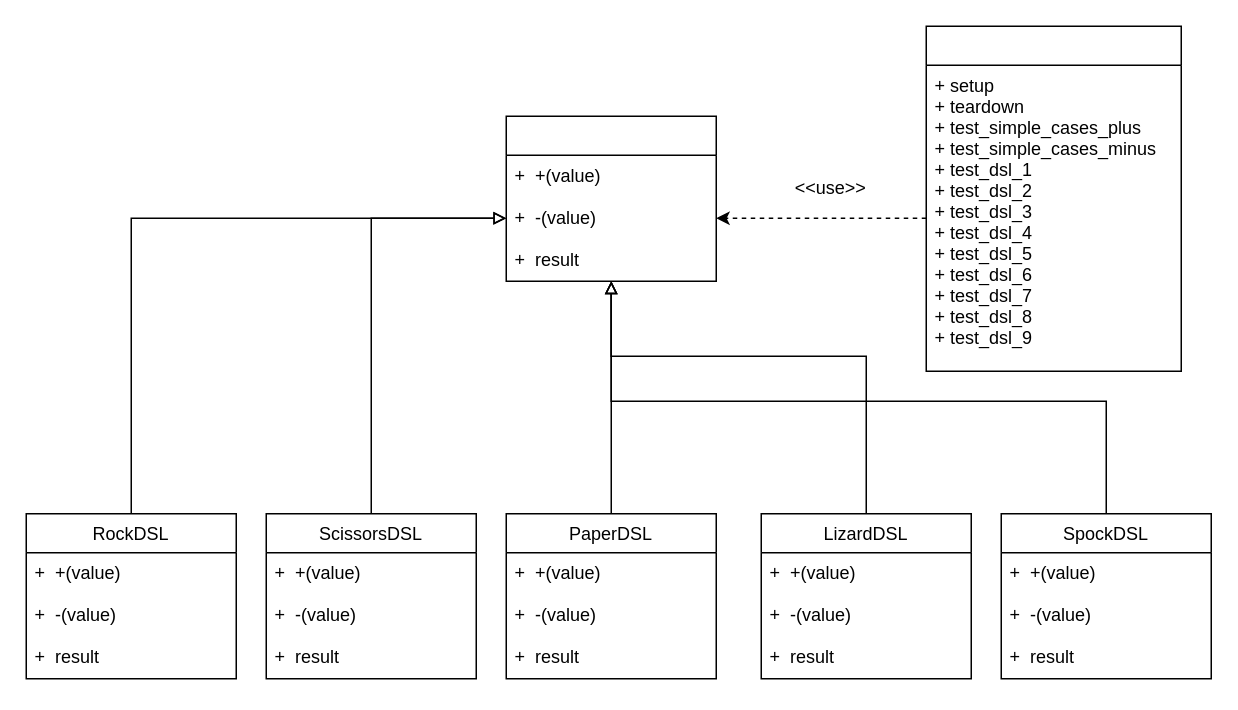
Image size: 1238x710. Some labels were removed from this diagram. The shapes that lost their labels are listed below. From the top down, each one's box as (x1, y1, x2, y2) in pixels, then its label:
(505, 115, 716, 281): Jankenpon
(925, 25, 1181, 371): JakenponTest
